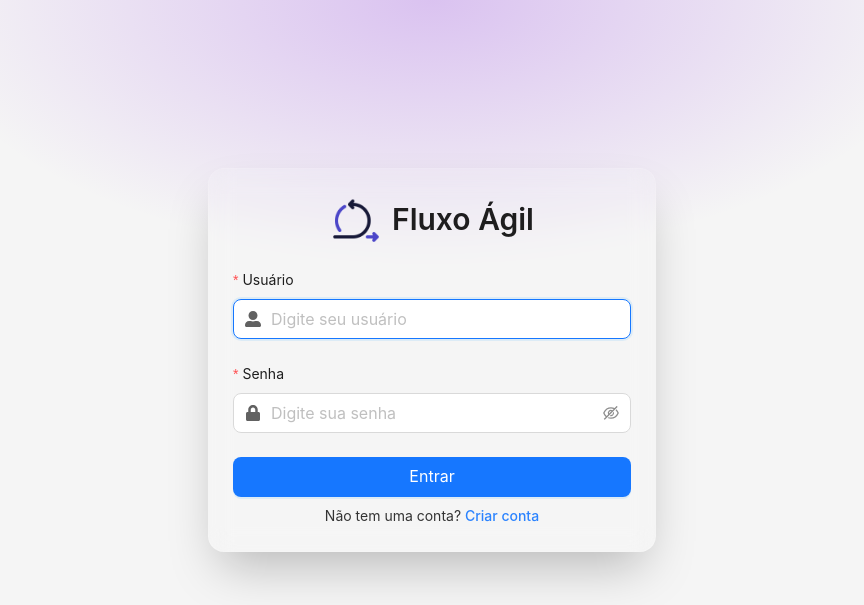
Test: FormLogin › deve validar campos obrigatórios
Expected: the field with placeholder "Digite seu usuário" is empty, [271,307,619,331]
Expected: the password field with placeholder "Digite sua senha" is empty, [271,401,599,425]
Click the button "Entrar": (432, 477) [233,457,631,497]
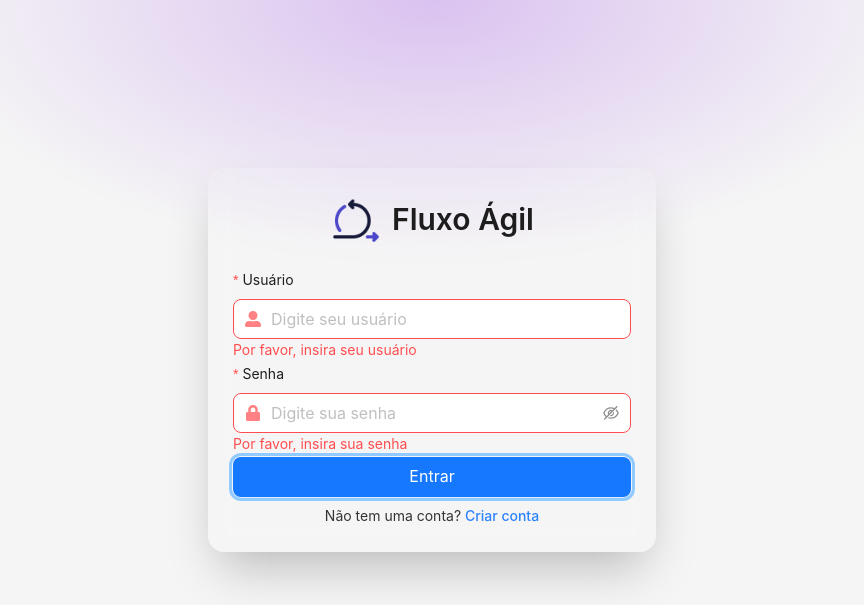
Now the text "Por favor, insira seu usuário" is shown, box [233,341,417,358]
Now the text "Por favor, insira sua senha" is shown, box [233,435,407,452]
